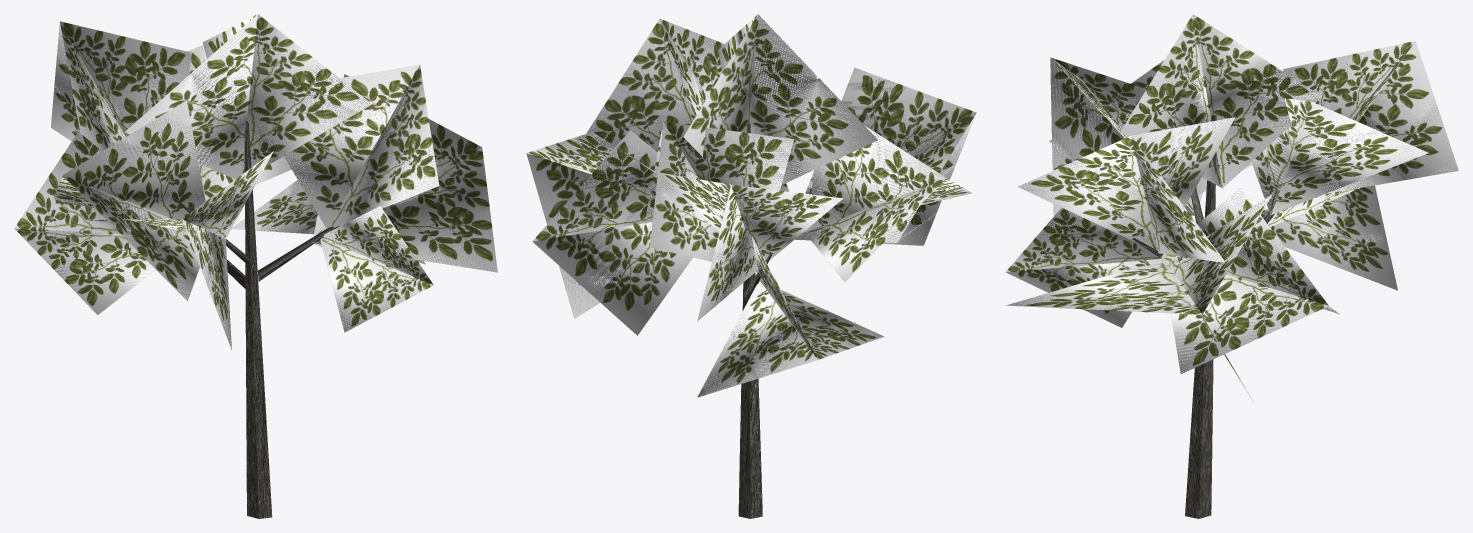
File: Tree-B-01.fbx
3 views of the same model, side by side, from view 1: azimuth 30°, elevation 25°; view 2: azimuth 150°, elevation 25°; view 3: azimuth 270°, elevation 25° (orthographic).
Visible parts, largest first — view 1: Leaves; view 2: Leaves; view 3: Leaves.
Part boxes in pixels (x1,y1,x2,y2): Leaves: [14, 14, 497, 518]; Leaves: [526, 14, 976, 518]; Leaves: [1005, 14, 1458, 518].
Bounding box in the file's own units: 1037 × 1182 × 977.
